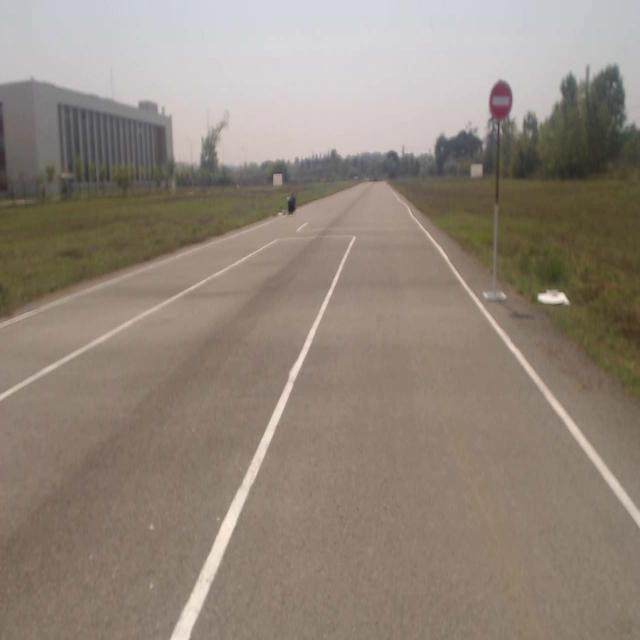girisyok: (490, 82, 512, 120)
